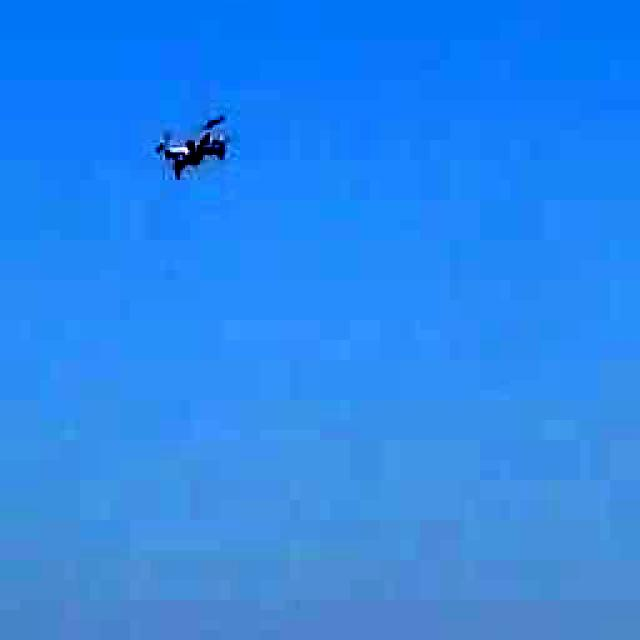bird: (149, 112, 239, 182)
